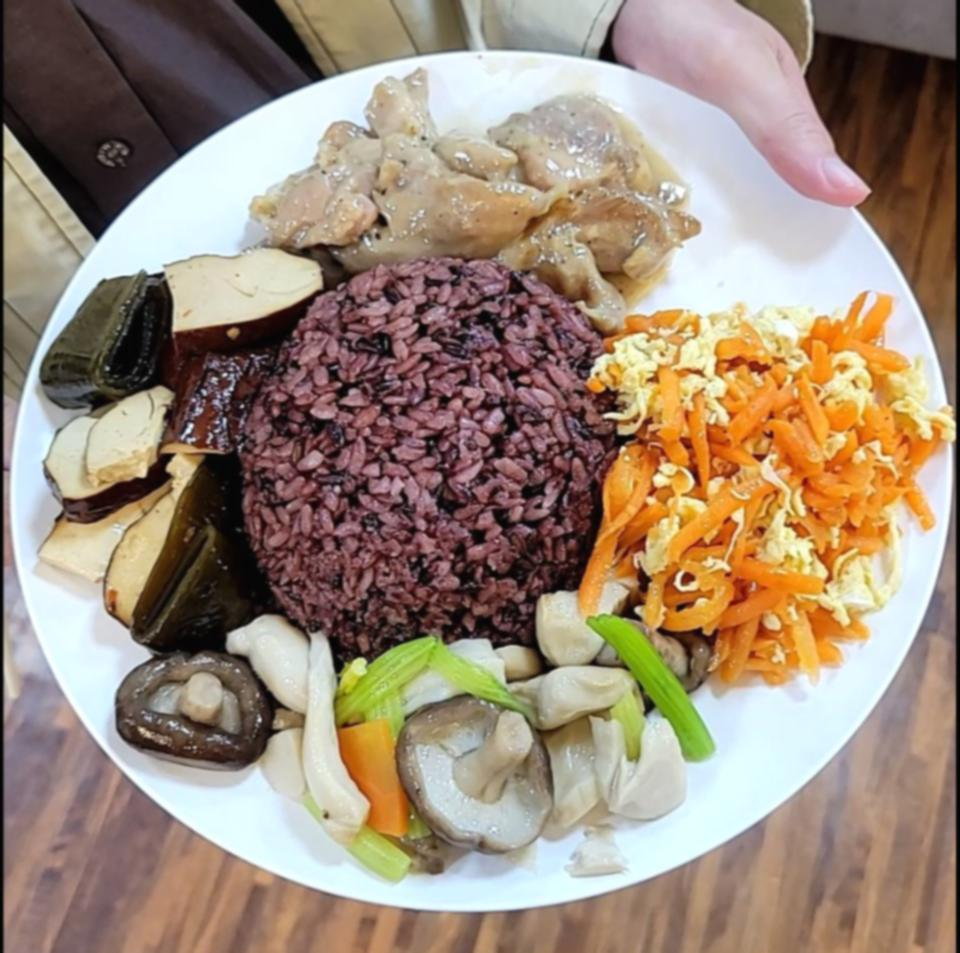plate: (4, 24, 952, 922)
purple rice: (247, 264, 614, 653)
side dish: (115, 592, 694, 880), (592, 294, 944, 685), (30, 222, 311, 647)
white sauce chicken: (256, 66, 694, 300)
